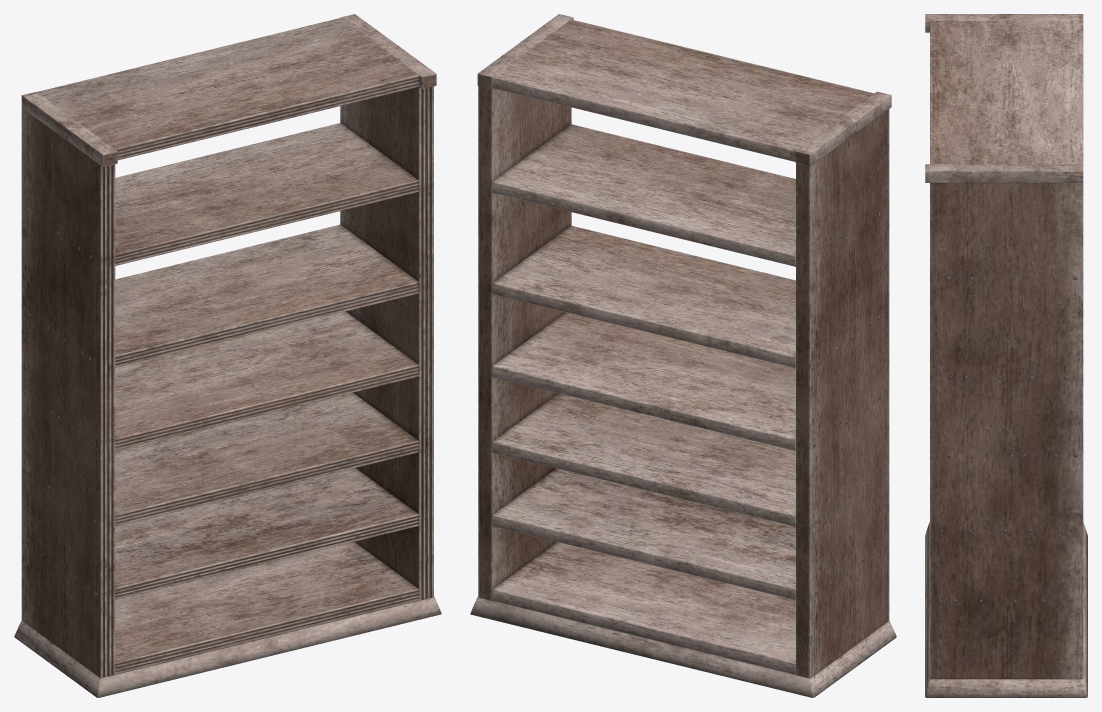
Rendered from wooden_bookshelf_worn_1k.glb.
The picture shows the model from 3 angles, left to right: view 1: azimuth 30°, elevation 25°; view 2: azimuth 150°, elevation 25°; view 3: azimuth 270°, elevation 25°; orthographic projection. The views are drawn at different scales.
Visible parts, largest first — view 1: wooden_bookshelf_worn; view 2: wooden_bookshelf_worn; view 3: wooden_bookshelf_worn.
Part boxes in pixels (box(x1,y1,x2,y2)): wooden_bookshelf_worn: box(14, 14, 441, 697); wooden_bookshelf_worn: box(470, 14, 896, 697); wooden_bookshelf_worn: box(925, 14, 1087, 697).
Size of the model in its own units: 1.37 by 2.06 by 0.5813.
Materials: 1 (1 with a texture image).
